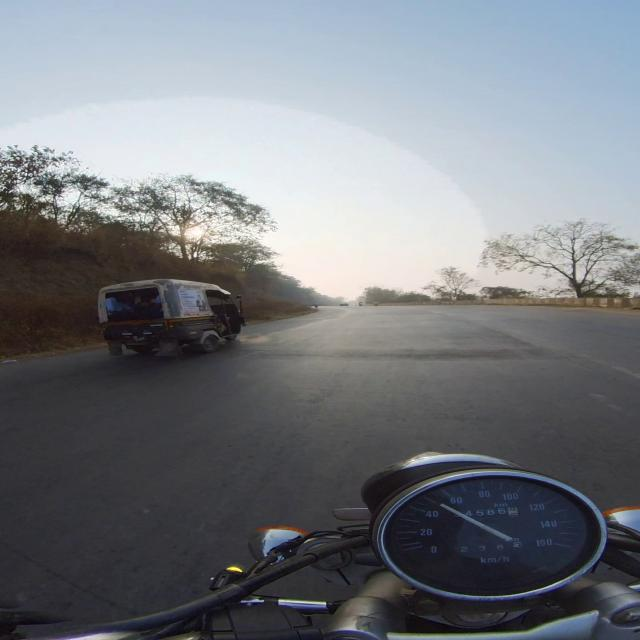motorcycle: (82, 453, 639, 639)
